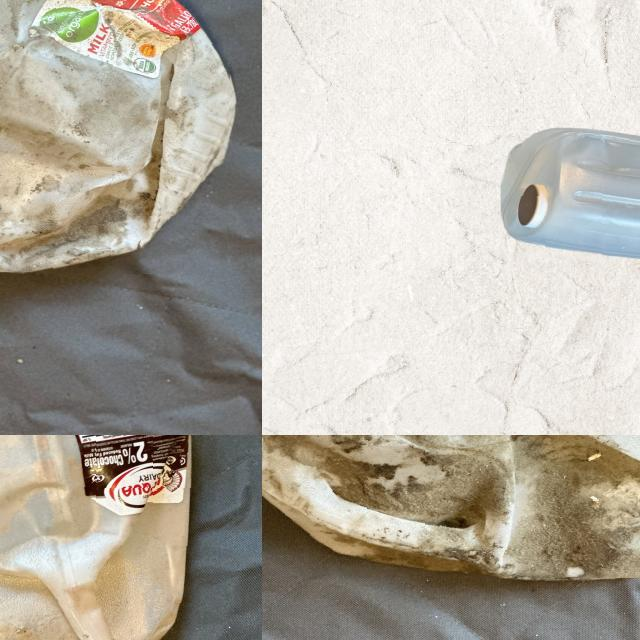milk-jug: (0, 0, 231, 272), (262, 435, 640, 576), (0, 435, 197, 640), (500, 133, 640, 259)
